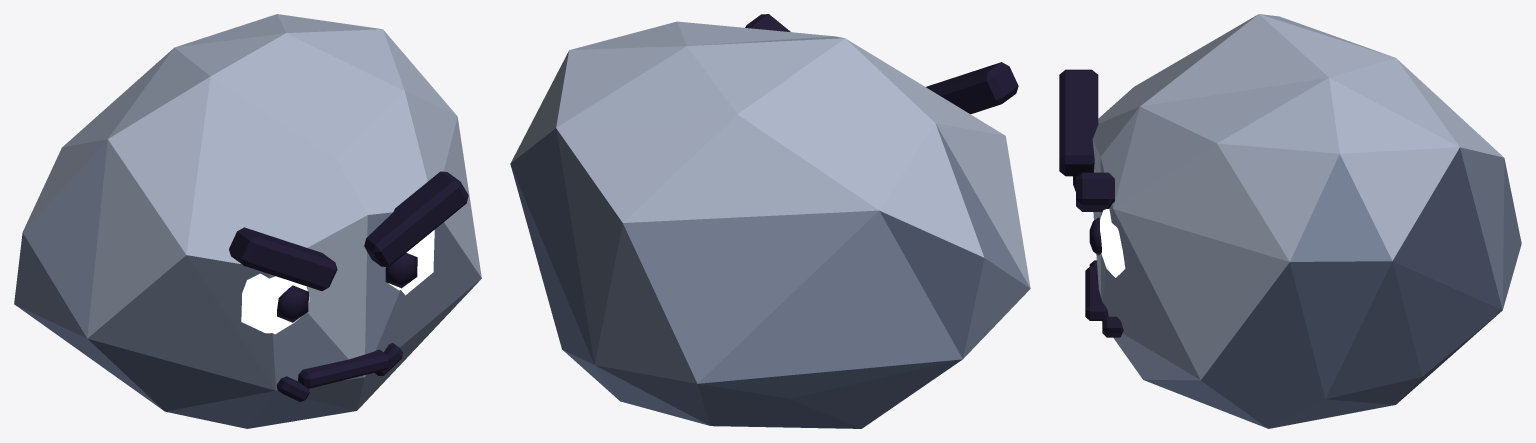
Rendered from rock.glb.
The picture shows the model from 3 angles, left to right: view 1: azimuth 30°, elevation 25°; view 2: azimuth 150°, elevation 25°; view 3: azimuth 270°, elevation 25°; orthographic projection. The views are drawn at different scales.
Visible parts, largest first — view 1: rock; view 2: rock; view 3: rock.
Boxes of the visible parts, x1=… form: rock: x1=14, y1=14, x2=481, y2=428; rock: x1=510, y1=14, x2=1030, y2=428; rock: x1=1059, y1=14, x2=1521, y2=428.
Size of the model in its own units: 0.6323 by 0.4868 by 0.5915.
